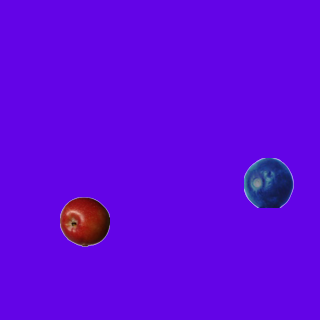Apple Braeburn: (59, 196, 109, 246)
Huckleberry: (243, 157, 293, 207)
